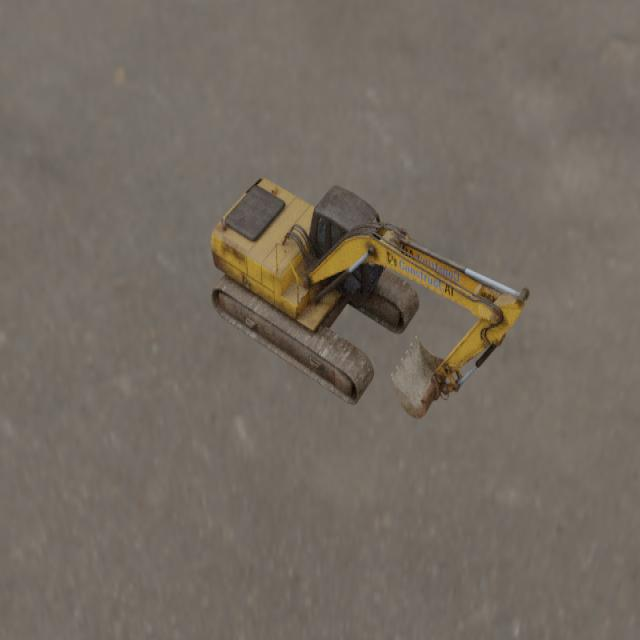excavator: (210, 177, 530, 419)
